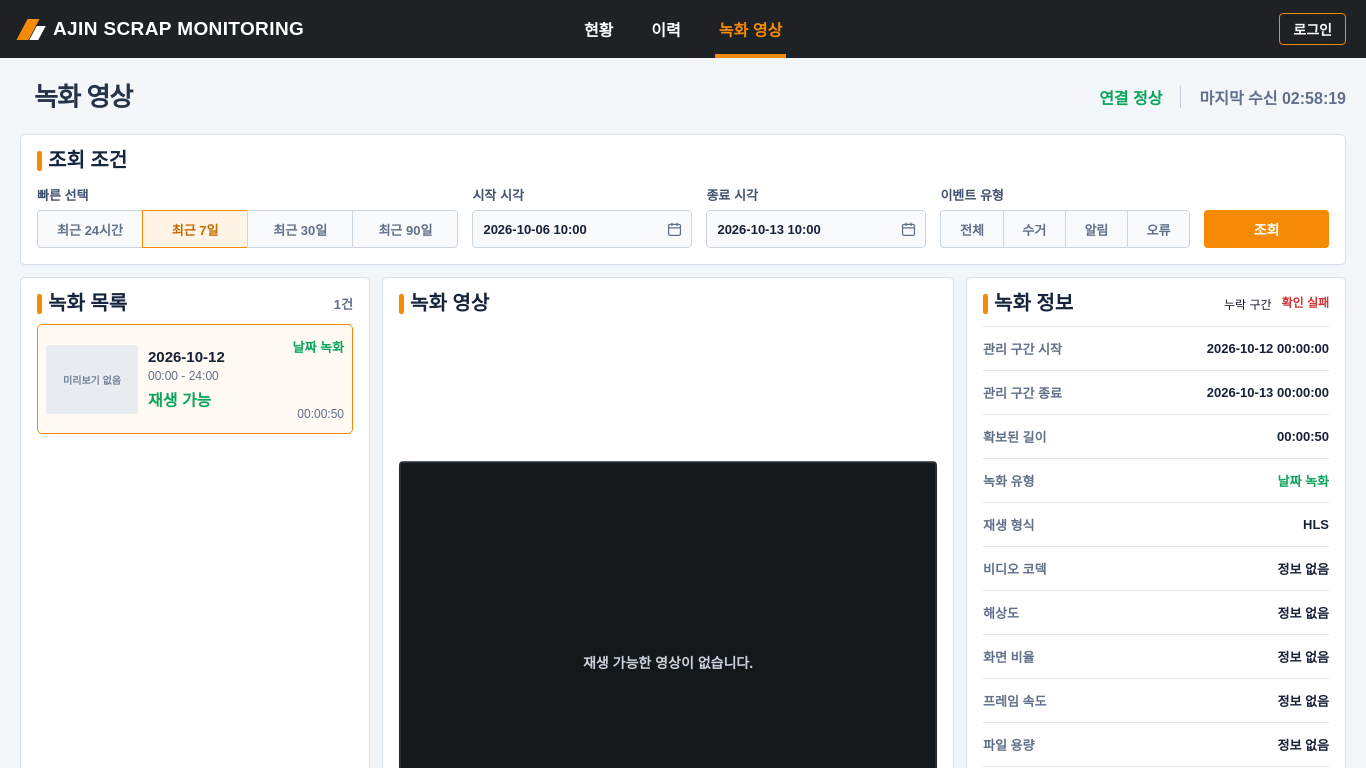
HLS 재생 실패도 독립적인 MP4 not_requested 경로를 유지한다
Click the button with aria-label "확인 실패 상세".
click(1305, 303)  # box [1282,292,1329,314]
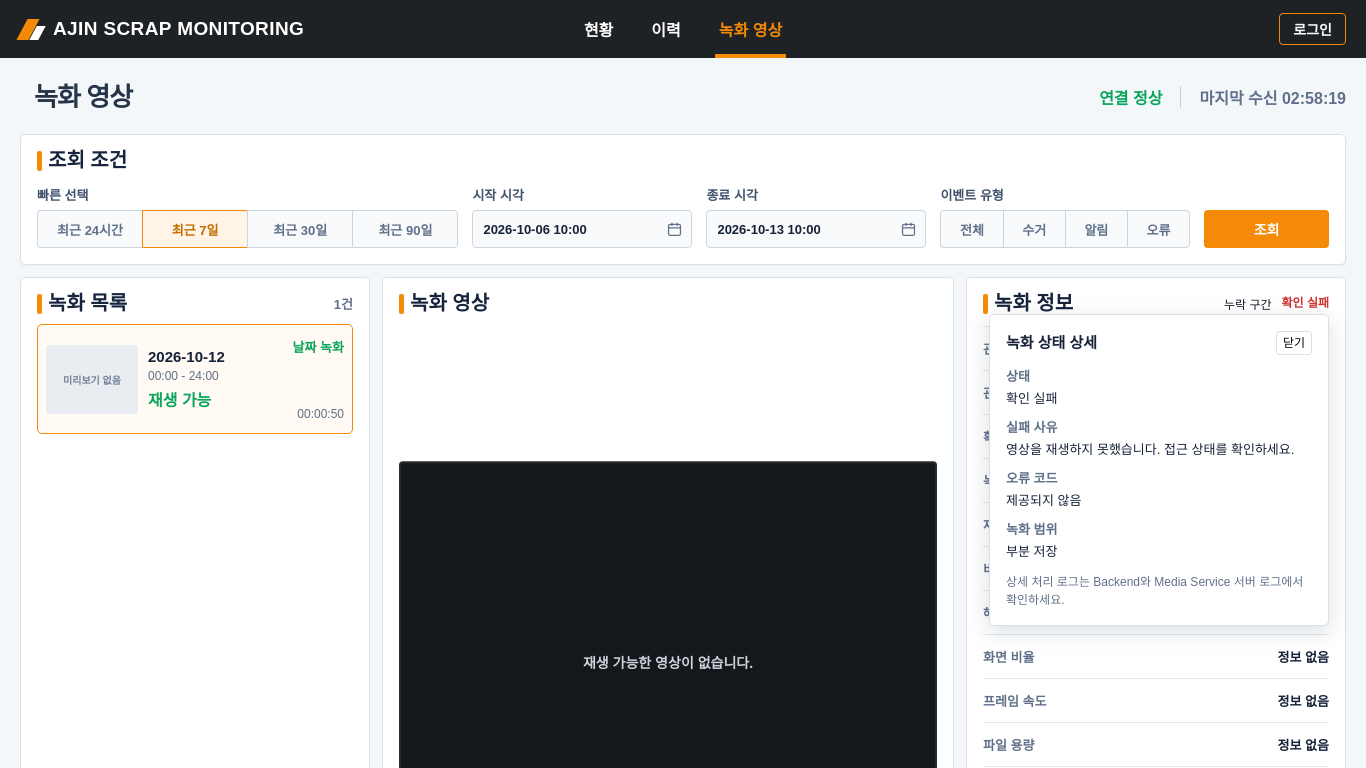
Expected: the dialog "녹화 상태 상세" shows "영상을 재생하지 못했습니다.", [1006,442,1294,456]
